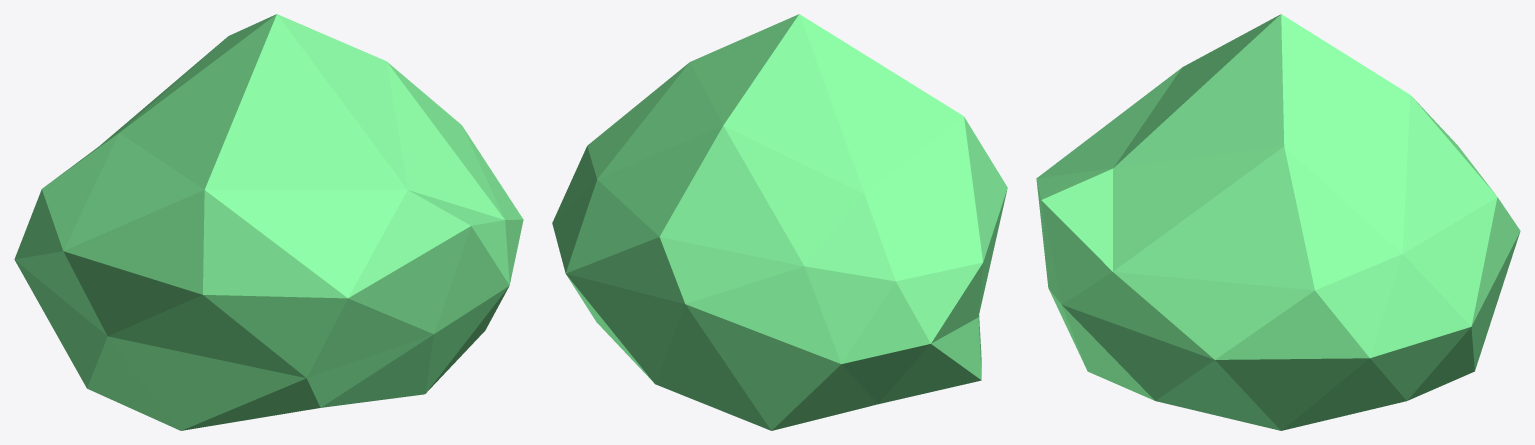
Rendered from Grass Pile 1.fbx.
3 renders of one model, left to right at view 1: azimuth 30°, elevation 25°; view 2: azimuth 150°, elevation 25°; view 3: azimuth 270°, elevation 25°, orthographic. The views are drawn at different scales.
Parts seen in each view (by area): view 1: Icosphere.001; view 2: Icosphere.001; view 3: Icosphere.001.
Part boxes in pixels (box(x1,y1,x2,y2)): Icosphere.001: box(14, 14, 523, 430); Icosphere.001: box(552, 14, 1007, 430); Icosphere.001: box(1036, 14, 1520, 430).
Bounding box in the file's own units: 13.94 × 11.19 × 13.77.
